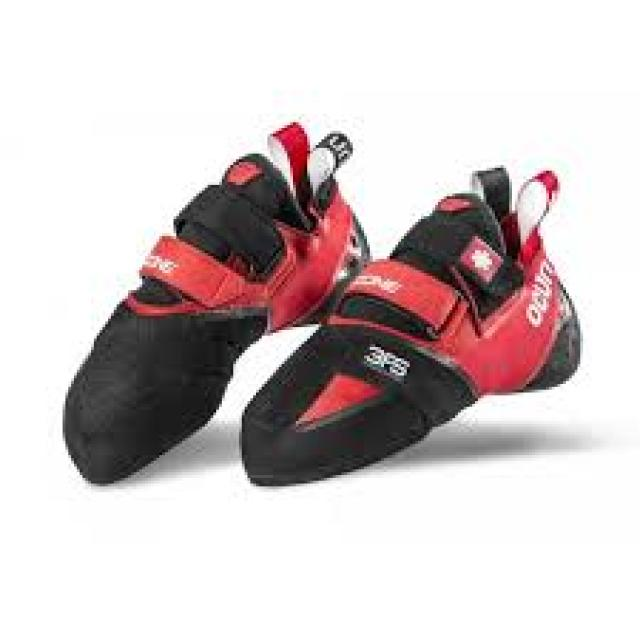climbing-shoes: (236, 162, 584, 492), (62, 121, 370, 487)
